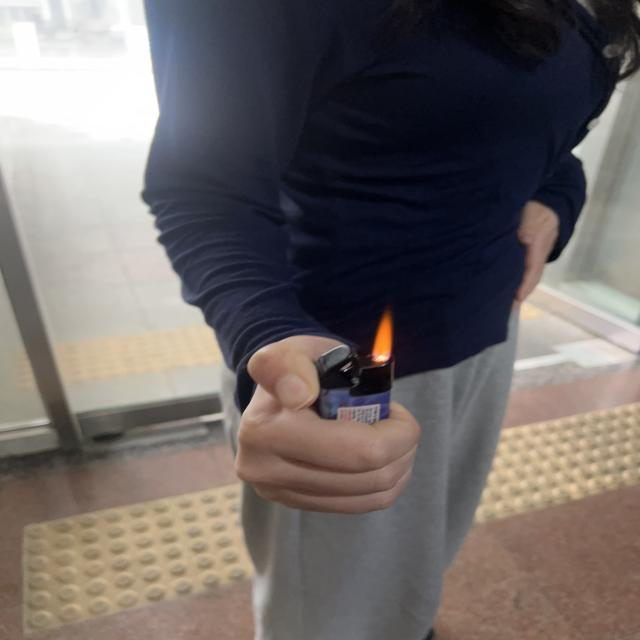fire: (368, 308, 393, 364)
